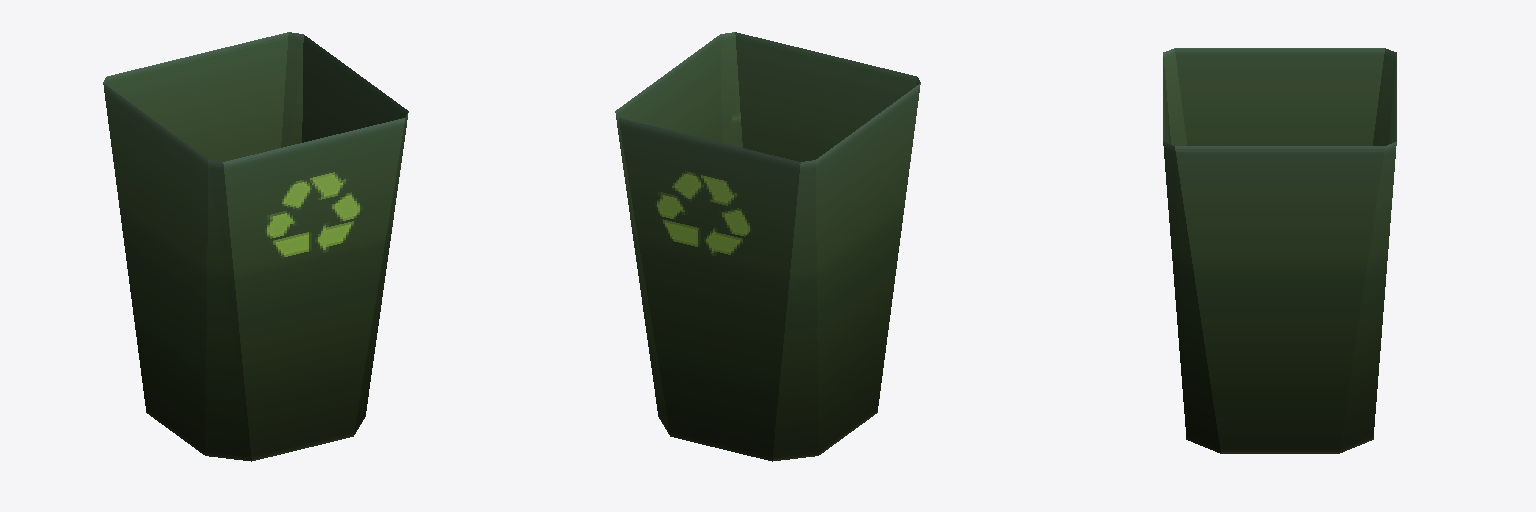
3 renders of one model, left to right at view 1: azimuth 30°, elevation 25°; view 2: azimuth 150°, elevation 25°; view 3: azimuth 270°, elevation 25°, orthographic.
Bounding box in the file's own units: 1.98 × 3 × 2.
1 materials, 1 textured.